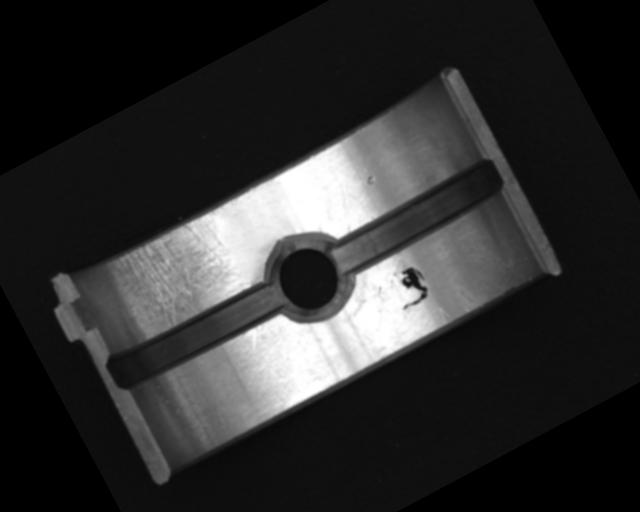blot: (382, 258, 436, 314)
bruise: (364, 173, 378, 186)
gap: (322, 151, 512, 282), (101, 273, 288, 397)
hole: (248, 218, 365, 337)
nick: (242, 325, 266, 351)
scratch: (93, 205, 255, 349)
